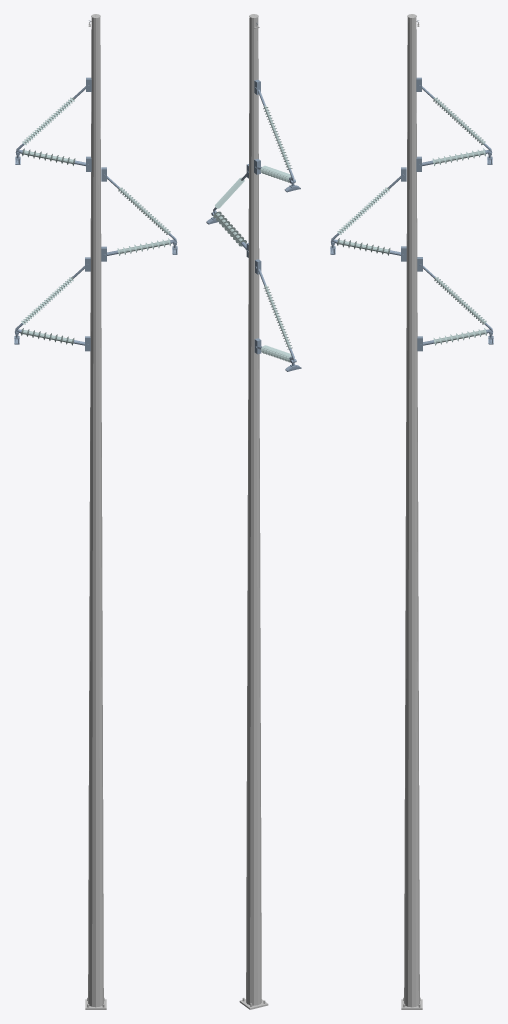
3 views of the same model, side by side, from view 1: azimuth 90°, elevation 25°; view 2: azimuth 210°, elevation 25°; view 3: azimuth 270°, elevation 25° (orthographic).
Parts seen in each view (by area): view 1: SteelPole_Cylinder00, BellInsulator_Cylinder03; view 2: SteelPole_Cylinder00, BellInsulator_Cylinder01; view 3: SteelPole_Cylinder00, BellInsulator_Cylinder03.
Boxes of the visible parts, x1,y1,x2,y2 form: SteelPole_Cylinder00: [88, 17, 103, 1007]; BellInsulator_Cylinder03: [23, 150, 168, 343]; SteelPole_Cylinder00: [246, 17, 261, 1005]; BellInsulator_Cylinder01: [240, 105, 290, 347]; SteelPole_Cylinder00: [404, 17, 419, 1007]; BellInsulator_Cylinder03: [339, 150, 484, 343].
Bounding box in the file's own units: 1.5 × 77.2 × 11.54.
